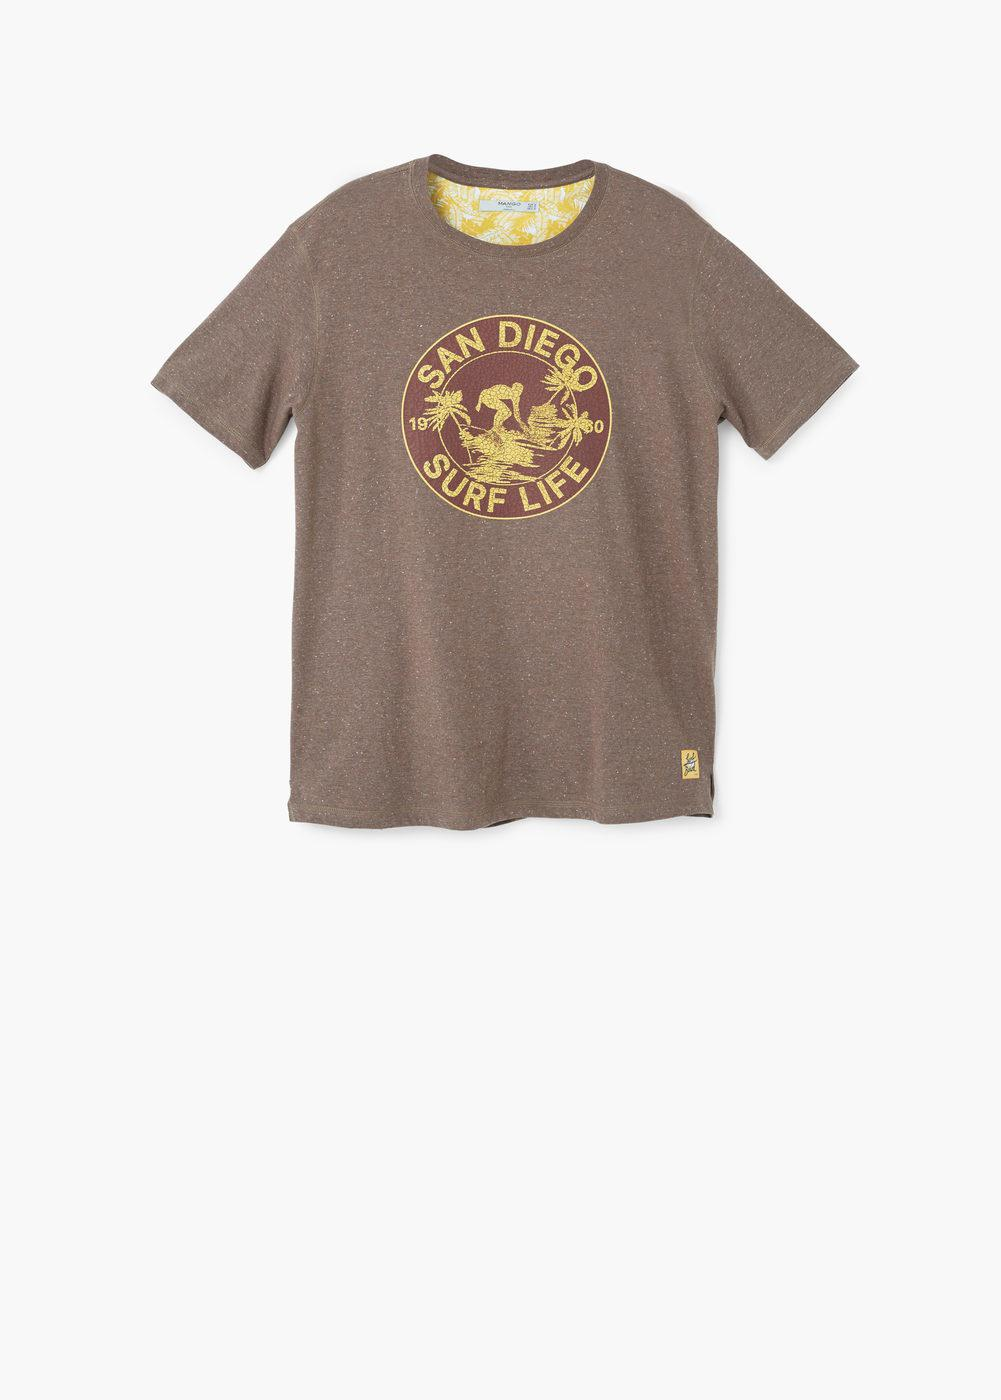teeshirt: (178, 144, 877, 867)
